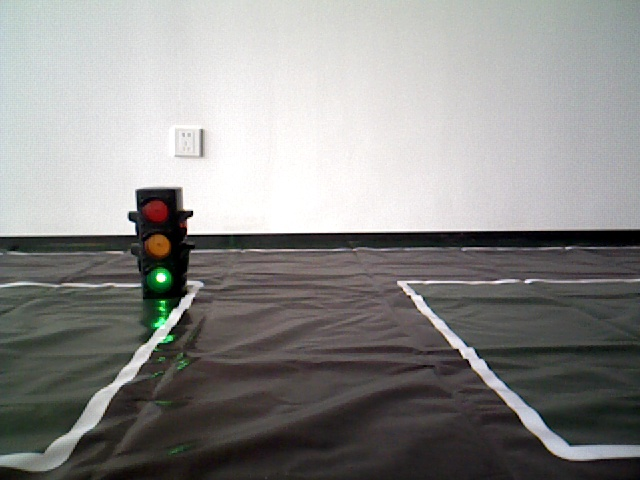green: (139, 189, 182, 288)
